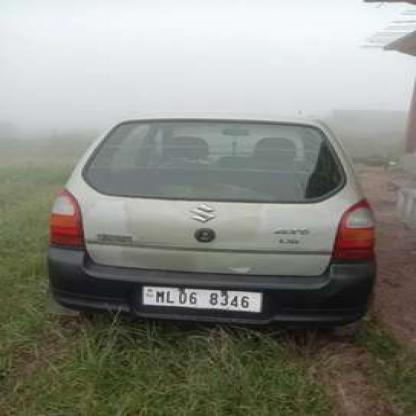license_plate: (141, 284, 260, 310)
